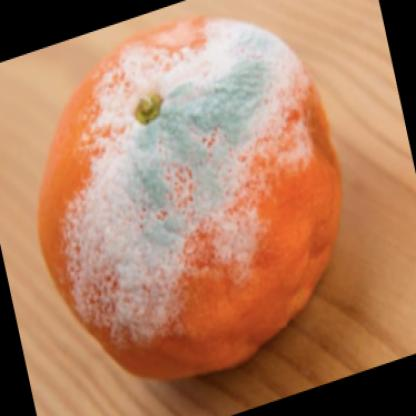rotten: (43, 16, 340, 380)
